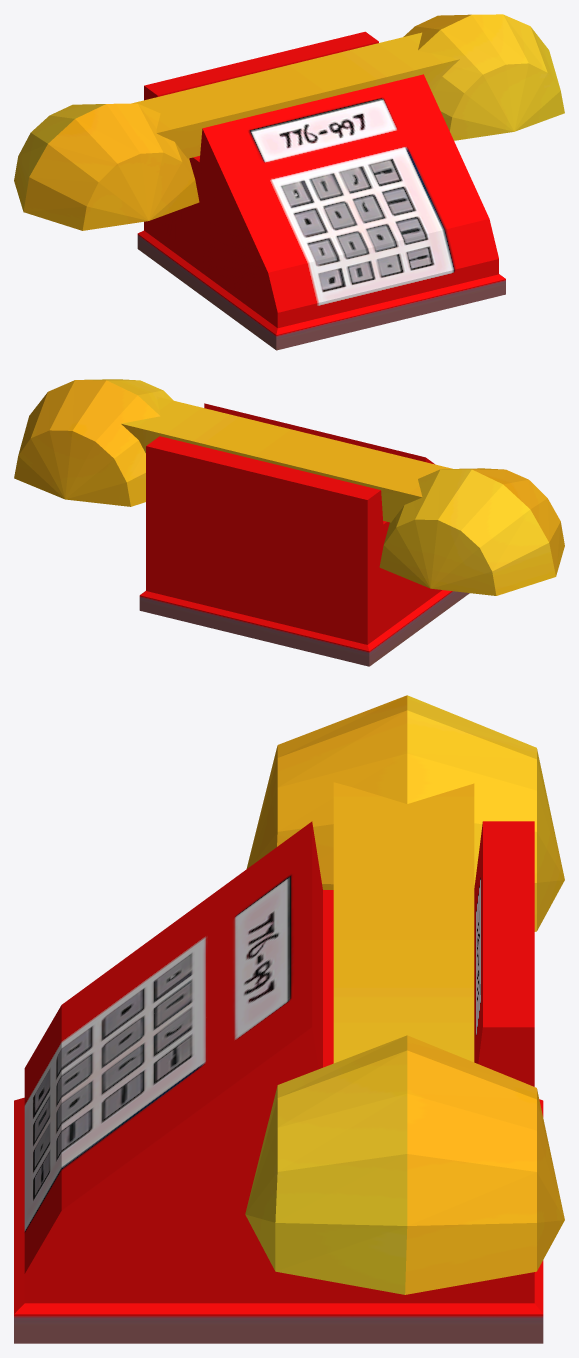
Rendered from Phone.glb.
The picture shows the model from 3 angles, top to bottom: view 1: azimuth 30°, elevation 25°; view 2: azimuth 150°, elevation 25°; view 3: azimuth 270°, elevation 25°; orthographic projection. The views are drawn at different scales.
Parts seen in each view (by area): view 1: Phone; view 2: Phone; view 3: Phone.
Part boxes in pixels (x1,y1,x2,y2): Phone: [14, 14, 564, 350]; Phone: [14, 379, 564, 666]; Phone: [14, 695, 564, 1343].
Bounding box in the file's own units: 26.26 × 8.83 × 12.34.
1 material, 1 textured.
